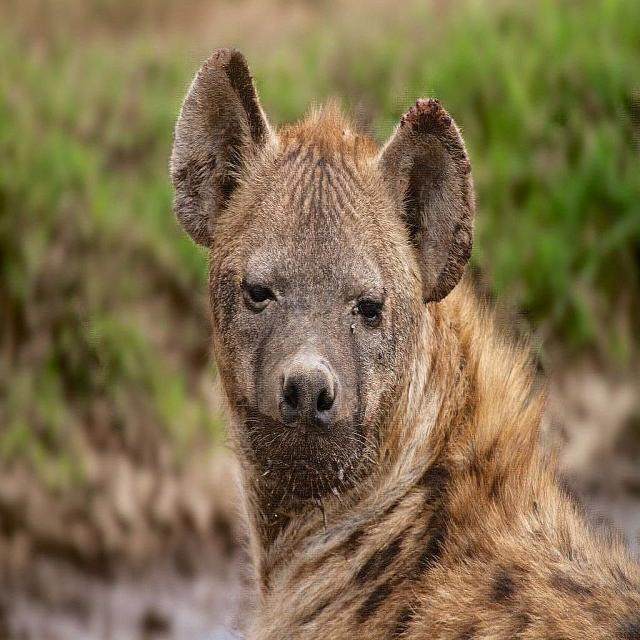Hyena: (169, 50, 613, 640)
